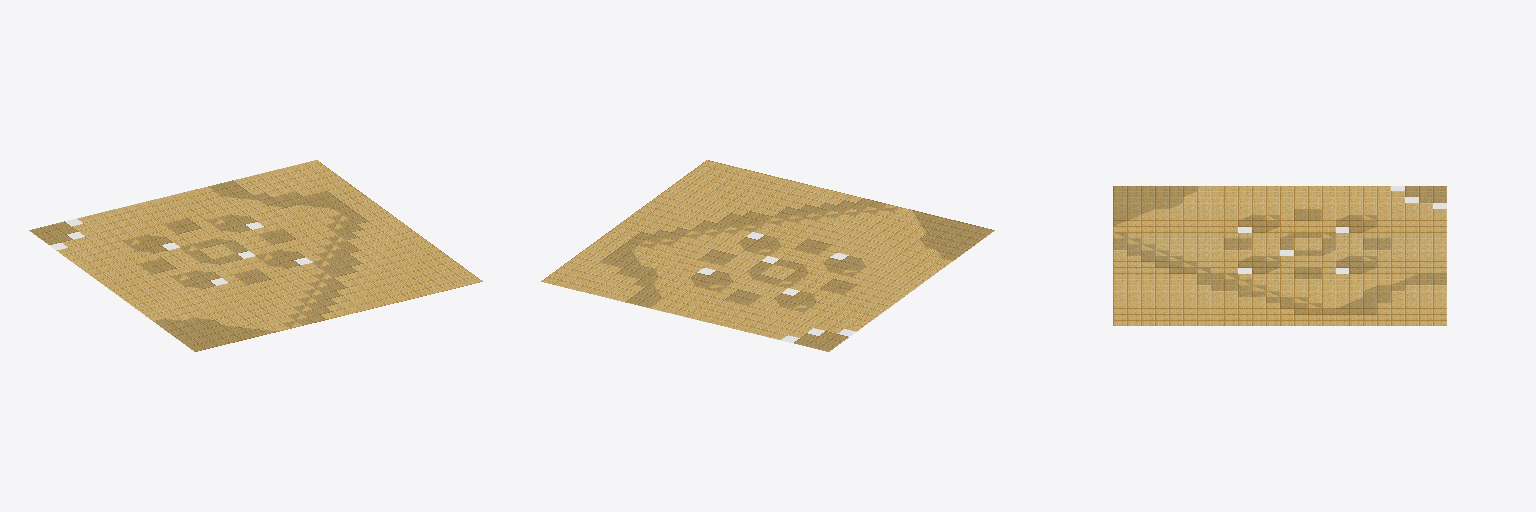
3 views of the same model, side by side, from view 1: azimuth 30°, elevation 25°; view 2: azimuth 150°, elevation 25°; view 3: azimuth 270°, elevation 25° (orthographic).
Parts seen in each view (by area): view 1: FloorCorner_3; view 2: FloorCorner_3; view 3: FloorCorner_3.
Part boxes in pixels (left/top/right/bottom): FloorCorner_3: left=29, top=160, right=482, bottom=351; FloorCorner_3: left=541, top=160, right=994, bottom=351; FloorCorner_3: left=1113, top=186, right=1446, bottom=325.
Bounding box in the file's own units: 24 × 0 × 24.
Materials: 6 (5 with a texture image).